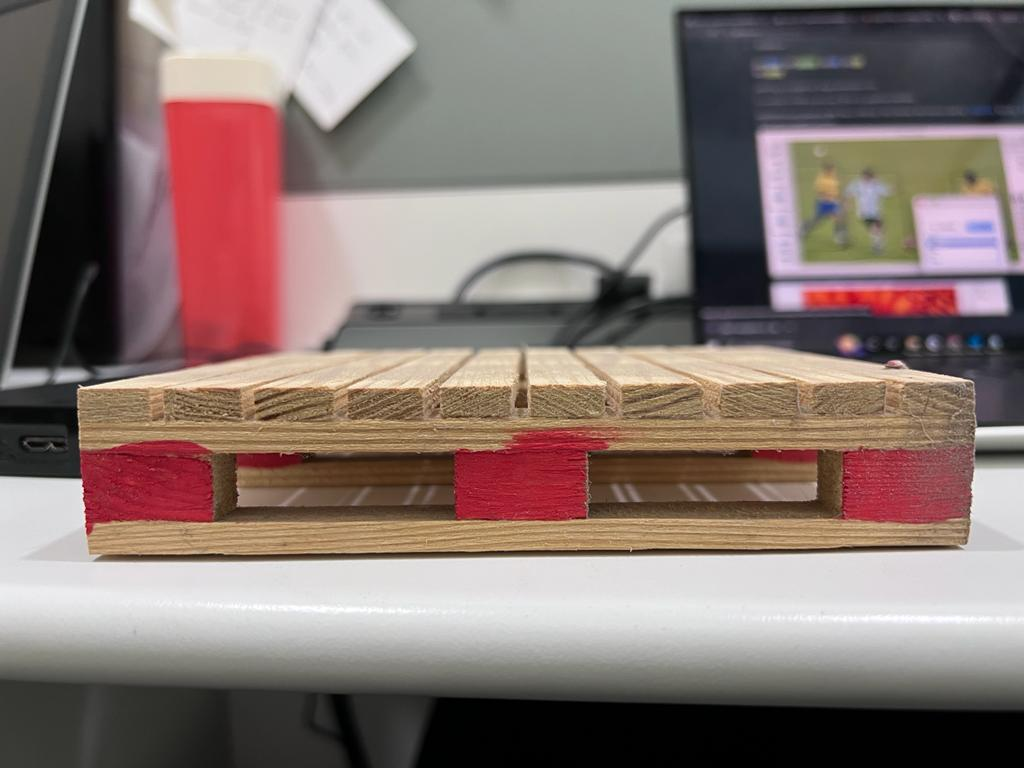pallet: (72, 383, 975, 563)
